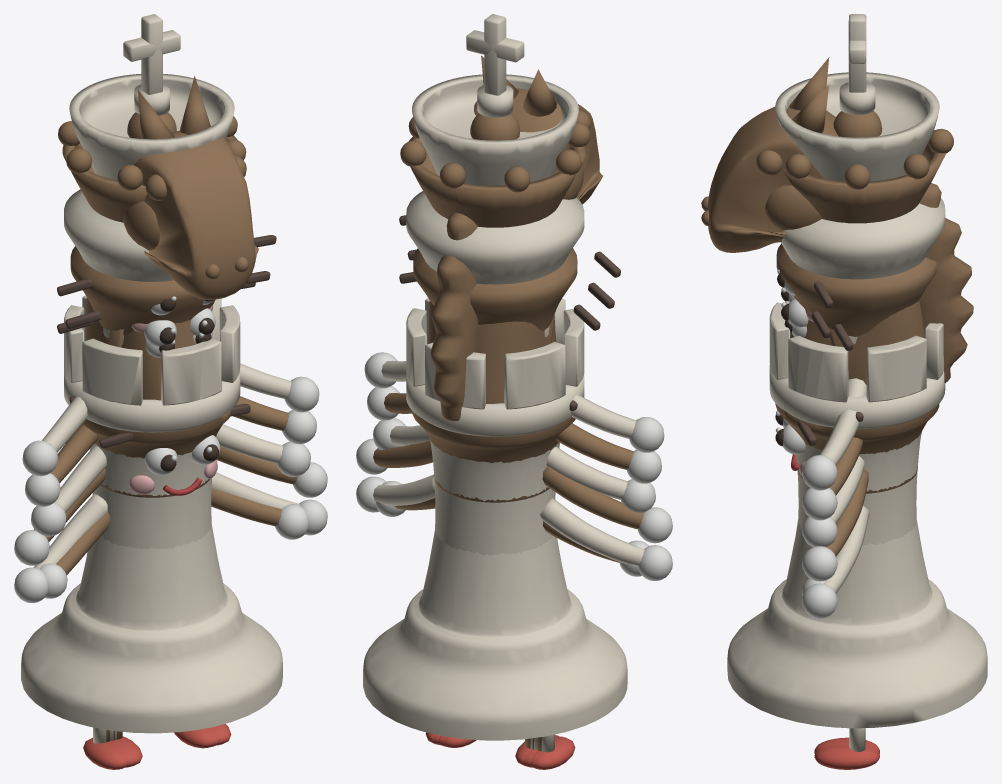
File: piecefolk.glb
3 views of the same model, side by side, from view 1: azimuth 30°, elevation 25°; view 2: azimuth 150°, elevation 25°; view 3: azimuth 270°, elevation 25° (orthographic).
Visible parts, largest first — view 1: body, body.004, body.003, body.001, armL_mesh.004, armL_mesh.002, armR_mesh.002, armR_mesh.005, armL_mesh, armL_mesh.001, armR_mesh, armR_mesh.003 (+7 smaller); view 2: body, body.004, body.003, body.001, armL_mesh.004, armL_mesh.003, armL_mesh.002, armL_mesh.001, armL_mesh, armR_mesh.004, armR_mesh.003, armR_mesh.002 (+6 smaller); view 3: body, body.003, body.004, body.001, armR_mesh, armR_mesh.004, armR_mesh.003, armR_mesh.001, armR_mesh.002, legs_mesh, body.002.
Boxes of the visible parts, x1=… form: body: x1=21, y1=14, x2=282, y2=733; body.004: x1=64, y1=295, x2=250, y2=549; body.003: x1=82, y1=76, x2=258, y2=458; body.001: x1=58, y1=112, x2=270, y2=346; armL_mesh.004: x1=14, y1=494, x2=107, y2=602; armL_mesh.002: x1=31, y1=445, x2=106, y2=536; armR_mesh.002: x1=216, y1=424, x2=310, y2=476; armR_mesh.005: x1=211, y1=488, x2=308, y2=539; armL_mesh: x1=22, y1=396, x2=87, y2=476; armL_mesh.001: x1=25, y1=424, x2=98, y2=506; armR_mesh: x1=240, y1=363, x2=319, y2=412; armR_mesh.003: x1=216, y1=446, x2=327, y2=497; body: x1=363, y1=14, x2=627, y2=740; body.004: x1=406, y1=298, x2=584, y2=555; body.003: x1=412, y1=55, x2=603, y2=463; body.001: x1=400, y1=113, x2=614, y2=330; armL_mesh.004: x1=540, y1=498, x2=672, y2=580; armL_mesh.003: x1=542, y1=466, x2=672, y2=543; armL_mesh.002: x1=546, y1=447, x2=655, y2=512; armL_mesh.001: x1=556, y1=423, x2=661, y2=483; armL_mesh: x1=571, y1=394, x2=664, y2=452; armR_mesh.004: x1=356, y1=474, x2=435, y2=512; armR_mesh.003: x1=356, y1=438, x2=432, y2=474; armR_mesh.002: x1=373, y1=418, x2=430, y2=449; body: x1=727, y1=14, x2=987, y2=728; body.003: x1=701, y1=57, x2=973, y2=454; body.004: x1=769, y1=302, x2=945, y2=544; body.001: x1=776, y1=111, x2=953, y2=338; armR_mesh: x1=802, y1=378, x2=866, y2=490; armR_mesh.004: x1=802, y1=506, x2=869, y2=618; armR_mesh.003: x1=802, y1=469, x2=868, y2=581; armR_mesh.001: x1=802, y1=437, x2=863, y2=520; armR_mesh.002: x1=802, y1=456, x2=864, y2=547; legs_mesh: x1=814, y1=728, x2=879, y2=769; body.002: x1=784, y1=301, x2=857, y2=350.
Bounding box in the file's own units: 0.518 × 1.17 × 0.418.
